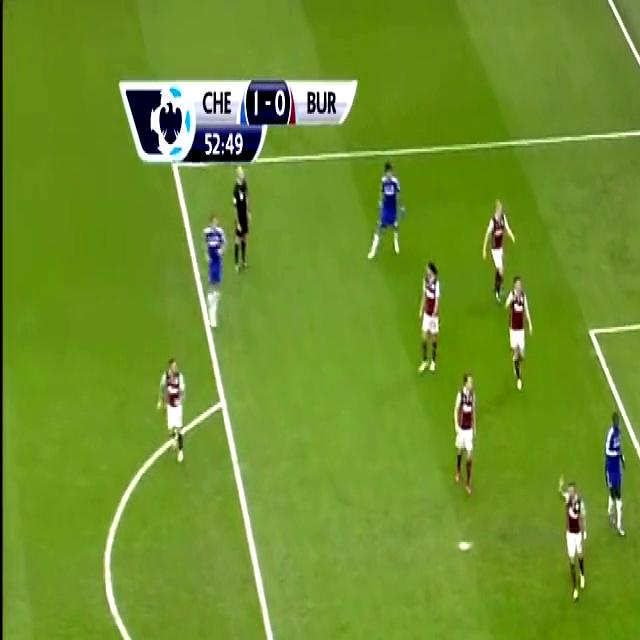referee: (228, 151, 262, 272)
soccer-player: (154, 343, 196, 478), (361, 148, 406, 265), (553, 464, 589, 605), (473, 187, 516, 305), (596, 406, 632, 540), (501, 267, 536, 400), (411, 252, 444, 387), (448, 366, 480, 505), (193, 199, 229, 320)
